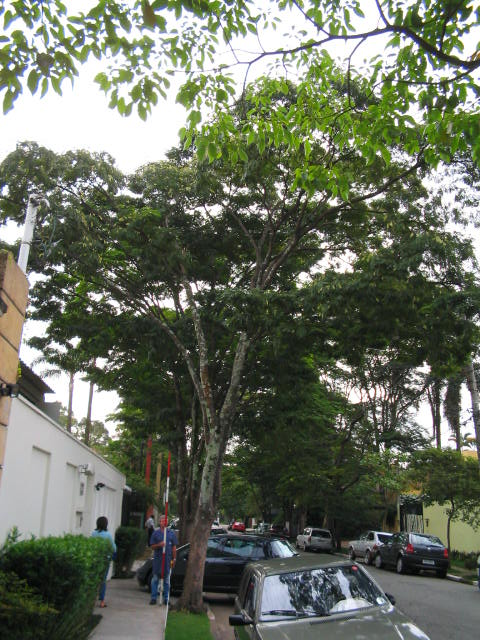crown: (4, 63, 477, 395)
stem: (176, 438, 225, 612)
stick: (154, 451, 178, 606)
tree: (2, 62, 480, 610)
